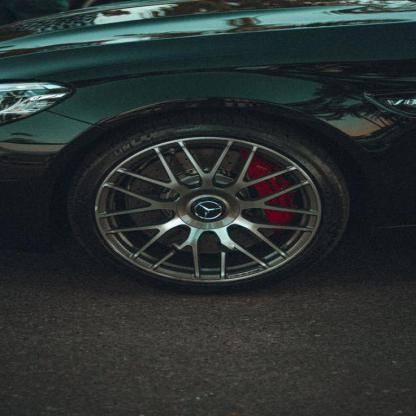Tire: (72, 117, 352, 294)
